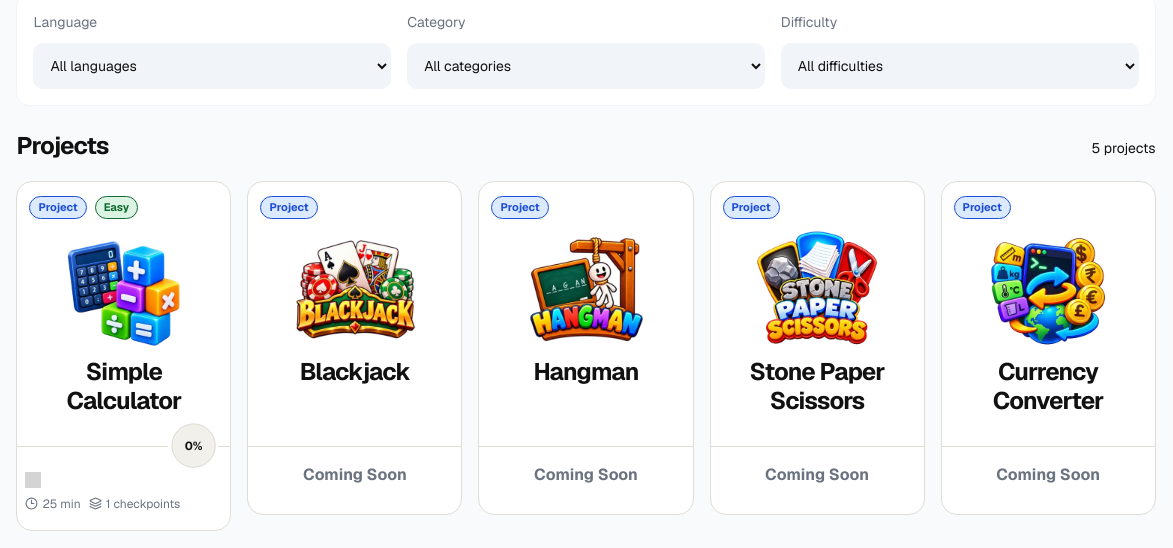
Test case: Projects filter cleanup › filters easy projects and updates heading/count
Check: the text "5 projects" is shown, box [1092,137,1156,161]
Select "Easy" in the dropdown labelled "Difficulty". click: point(960, 66)
box: [781,42,1139,88]
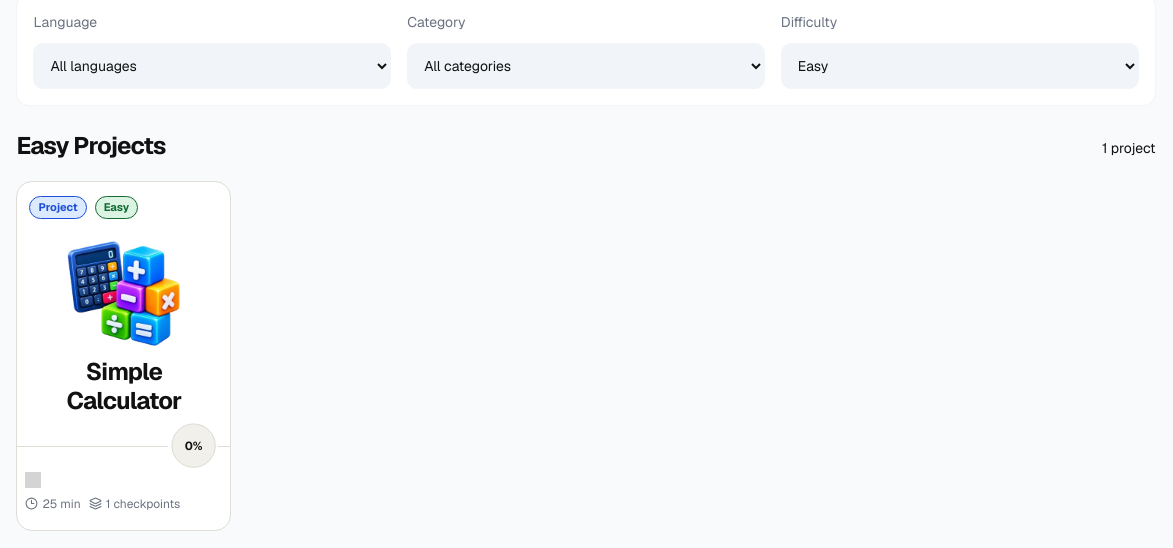
Check: the heading "Easy Projects" is shown, box [16,130,166,161]
